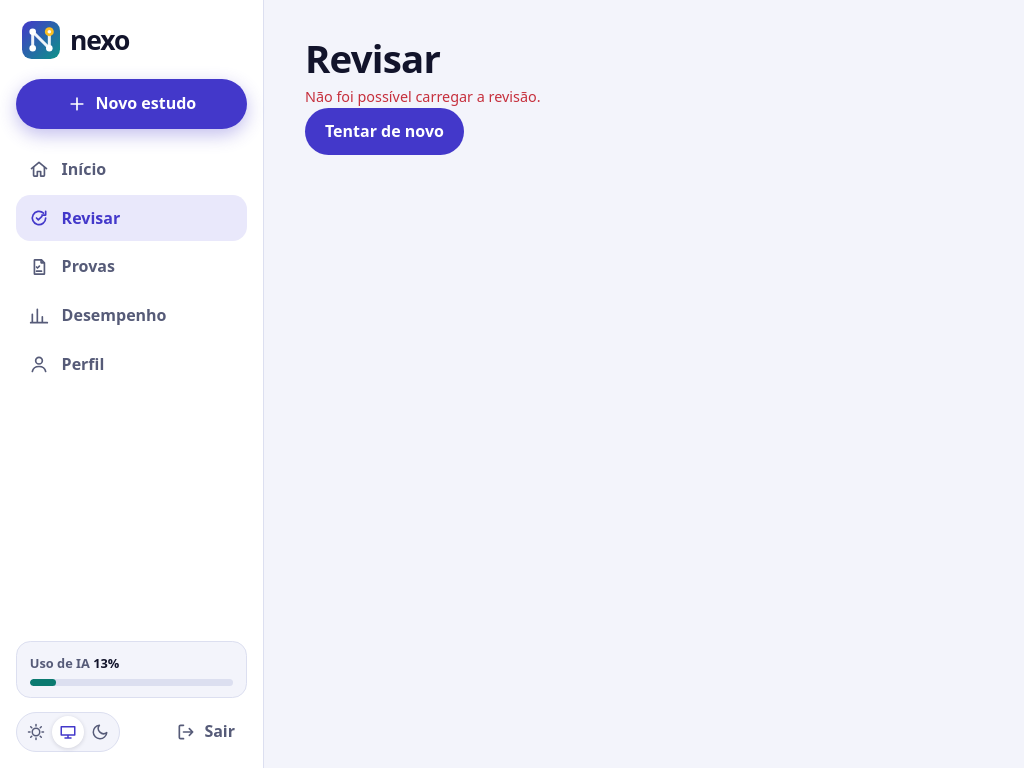
Test case: revisão com falha oferece tentar de novo
This screenshot has width=1024, height=768.
Click the button "Tentar de novo" at point(384, 131), box [305, 108, 464, 155]
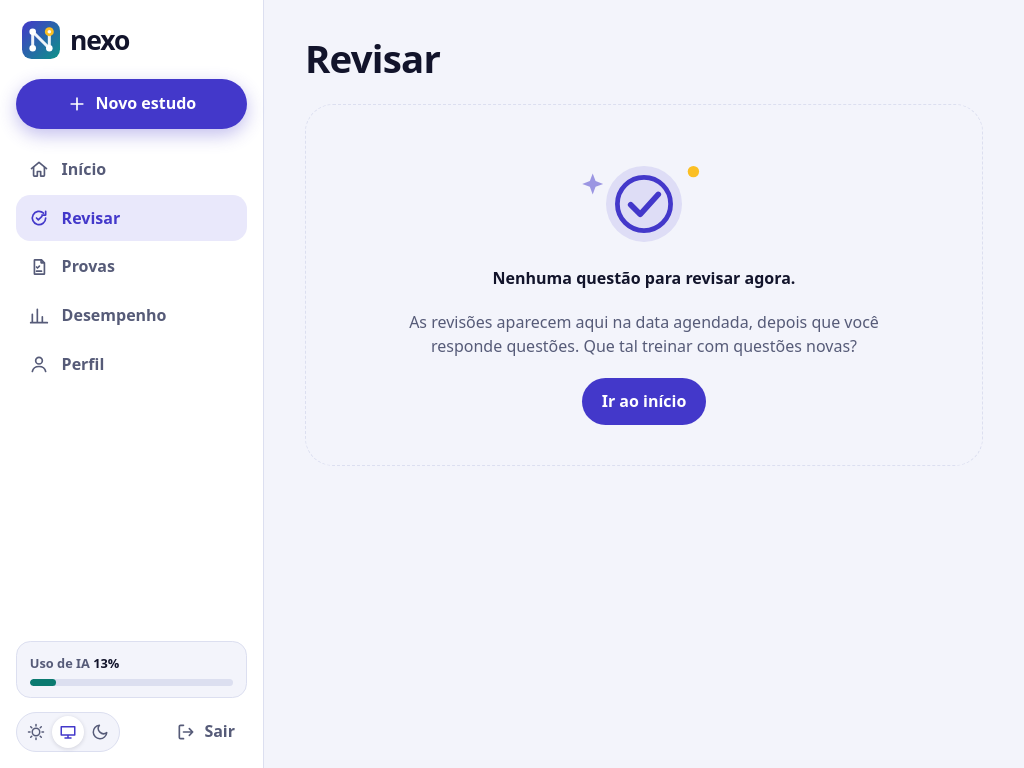
Expected: the text "Nenhuma questão para revisar agora." is shown, [493, 266, 795, 288]
